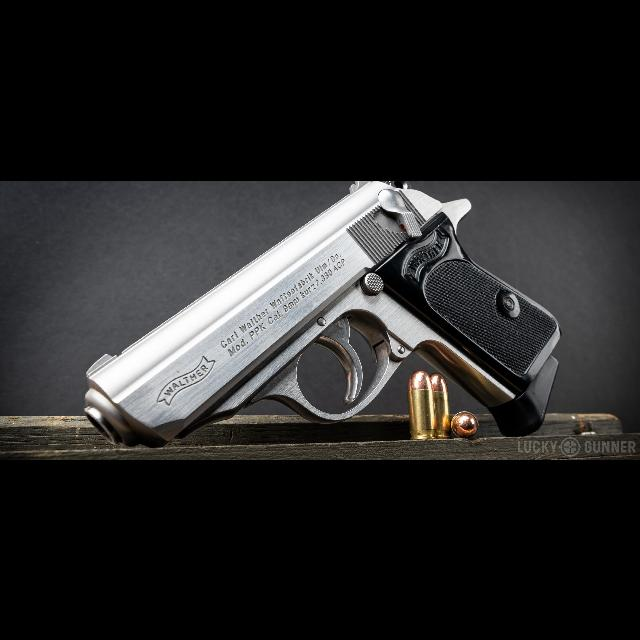handgun: (80, 180, 568, 452)
